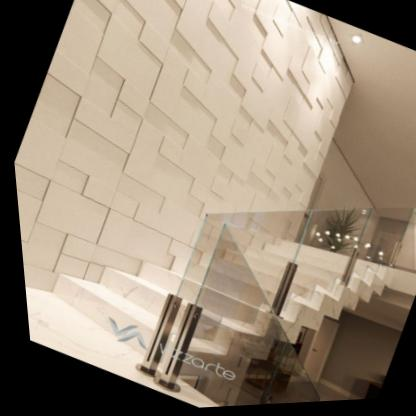Futech tiles: (28, 0, 350, 218)
